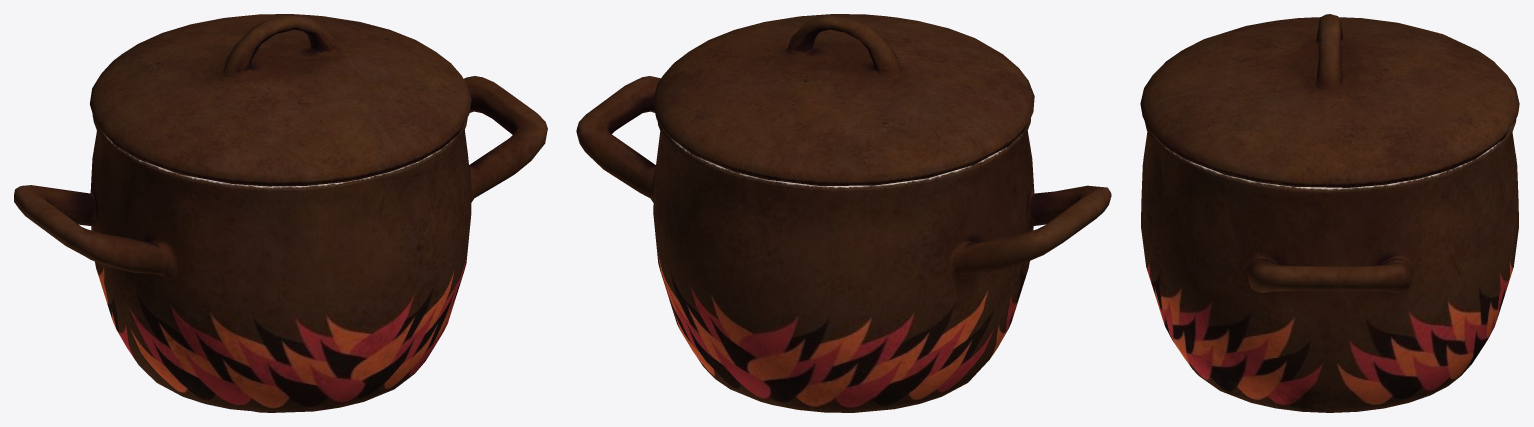
File: pot_enamel_01_1k.gltf
The picture shows the model from 3 angles, left to right: view 1: azimuth 30°, elevation 25°; view 2: azimuth 150°, elevation 25°; view 3: azimuth 270°, elevation 25°; orthographic projection.
Visible parts, largest first — view 1: pot_enamel_01_base, pot_enamel_01_lid; view 2: pot_enamel_01_base, pot_enamel_01_lid; view 3: pot_enamel_01_base, pot_enamel_01_lid.
Part boxes in pixels (left/top/right/bottom): pot_enamel_01_base: left=14, top=76, right=547, bottom=412; pot_enamel_01_lid: left=90, top=14, right=471, bottom=186; pot_enamel_01_base: left=576, top=76, right=1111, bottom=412; pot_enamel_01_lid: left=653, top=14, right=1034, bottom=185; pot_enamel_01_base: left=1141, top=119, right=1518, bottom=412; pot_enamel_01_lid: left=1140, top=14, right=1519, bottom=187.
Bounding box in the file's own units: 0.2627 × 0.178 × 0.1805.
1 material, 1 textured.
